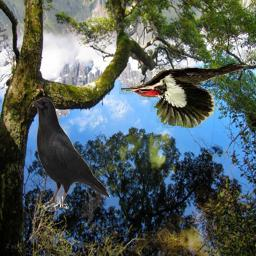Crow: (31, 95, 110, 211)
Woodpecker: (119, 62, 249, 128)
